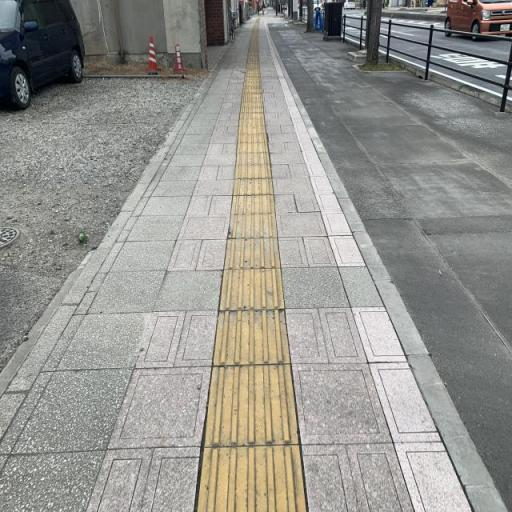line: (203, 363, 299, 447), (197, 444, 307, 511), (213, 309, 291, 365), (219, 269, 284, 310)
